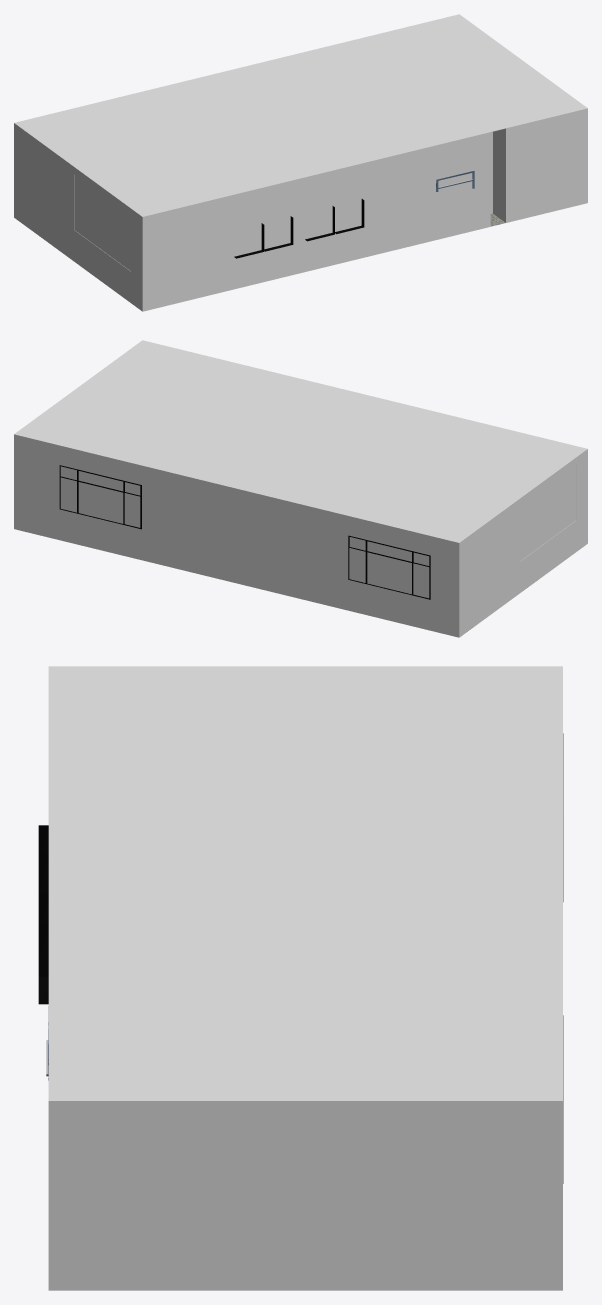
Rendered from blender hecho fin fin fin.fbx.
The picture shows the model from 3 angles, top to bottom: view 1: azimuth 30°, elevation 25°; view 2: azimuth 150°, elevation 25°; view 3: azimuth 270°, elevation 25°; orthographic projection. The views are drawn at different scales.
Visible parts, largest first — view 1: paredes, pared puerta, pared pizarron, columna; view 2: paredes, pared lado quesada, pared pizarron, ventana l5 parte que da a la calle, ventana l5 parte que da a la calle .001; view 3: paredes, pared fondo, ventana l5 parte que da a la calle .006.
Boxes of the visible parts, <box> form: paredes: <box>14,14,587,271</box>; pared puerta: <box>142,108,587,311</box>; pared pizarron: <box>14,123,142,311</box>; columna: <box>490,128,505,222</box>; paredes: <box>14,340,587,561</box>; pared lado quesada: <box>14,434,459,637</box>; pared pizarron: <box>459,449,587,637</box>; ventana l5 parte que da a la calle: <box>348,535,430,599</box>; ventana l5 parte que da a la calle .001: <box>59,465,141,529</box>; paredes: <box>48,666,562,1290</box>; pared fondo: <box>49,1101,562,1290</box>; ventana l5 parte que da a la calle .006: <box>38,923,48,1004</box>.
Bounding box in the file's own units: 3200 × 653 × 1632.
84 materials, 42 textured.
